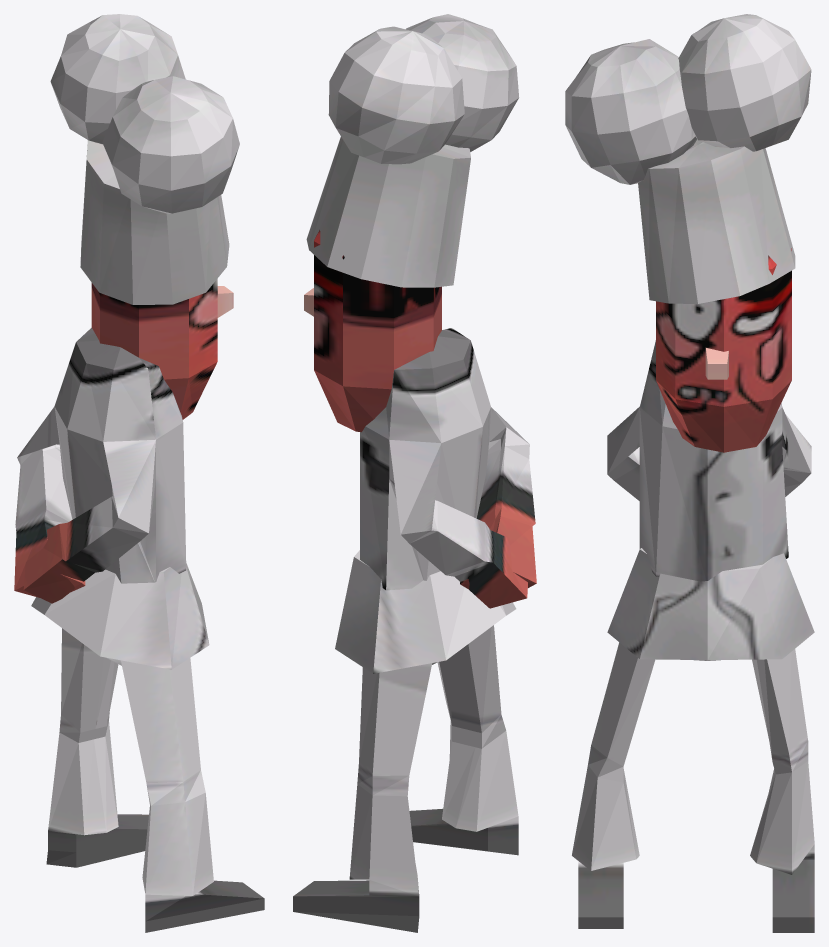
File: Bad1Cook.glb
3 renders of one model, left to right at view 1: azimuth 30°, elevation 25°; view 2: azimuth 150°, elevation 25°; view 3: azimuth 270°, elevation 25°, orthographic. The views are drawn at different scales.
Parts seen in each view (by area): view 1: Bad1Cook; view 2: Bad1Cook; view 3: Bad1Cook.
Part boxes in pixels (x1,y1,x2,y2): Bad1Cook: [14, 14, 264, 932]; Bad1Cook: [293, 14, 536, 932]; Bad1Cook: [565, 14, 814, 932].
Size of the model in its own units: 25.98 by 98.41 by 25.35.
Materials: 1 (1 with a texture image).
